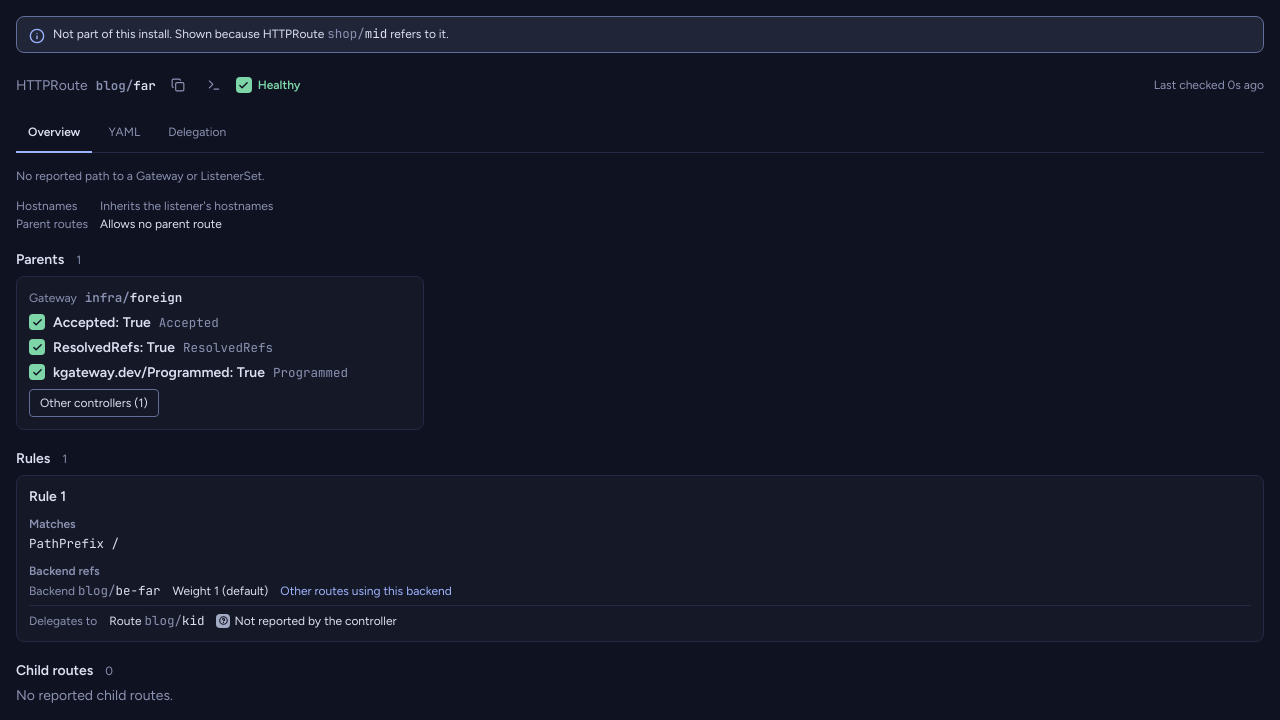
Test: other controllers' entries are collapsed
Expected: the element with test id "candidate-banner" shows "HTTPRoute shop/mid refers to it.", [16,16,1264,53]
Expected: the list item with test id "condition-Accepted" shows "Accepted: True", [53,314,151,331]
Click the button "Other controllers (1)". click: {"x": 94, "y": 403}
box: [29,389,159,417]
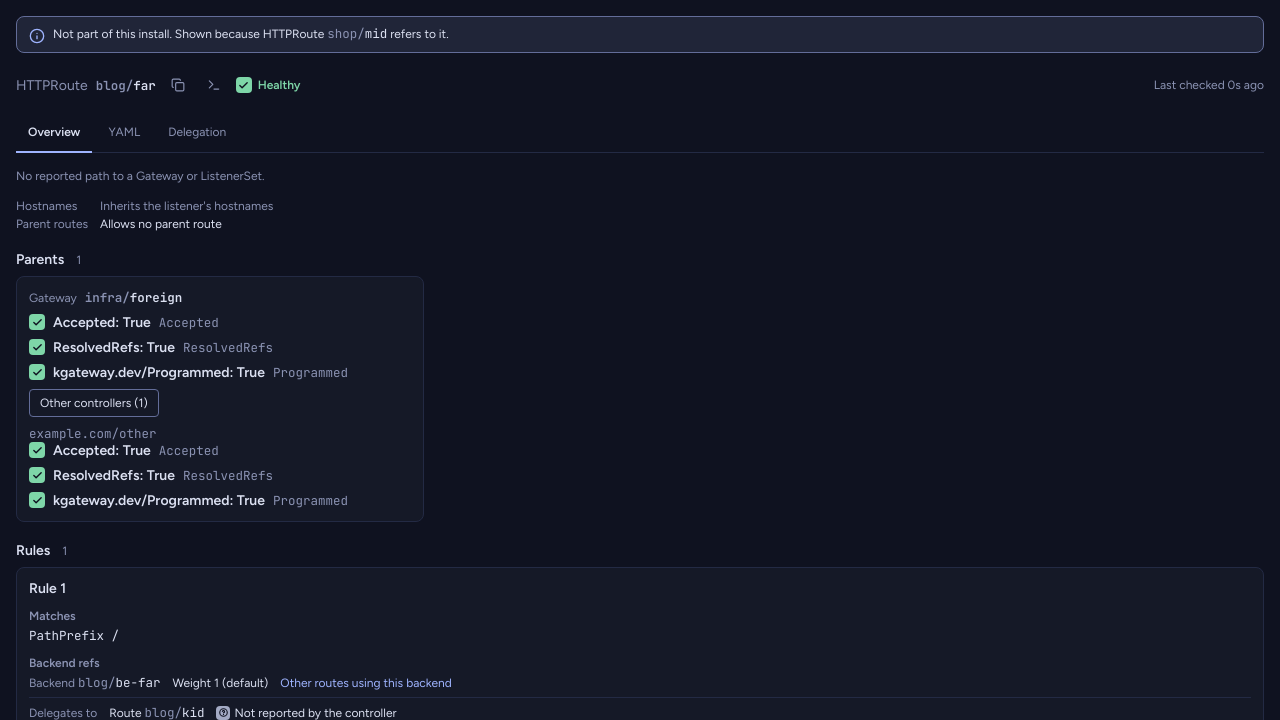
Expected: the text "No reported path to a Gateway or ListenerSet." is shown, [16,169,264,183]
Expected: the text "example.com/other" is shown, [29,425,156,442]
